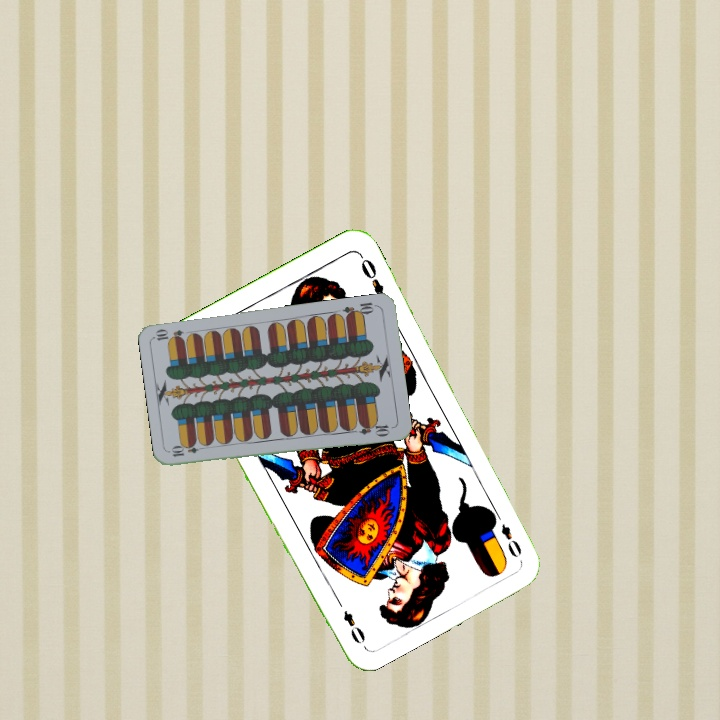E10: (339, 298, 380, 321), (167, 441, 208, 459)
EO: (489, 507, 525, 561)
